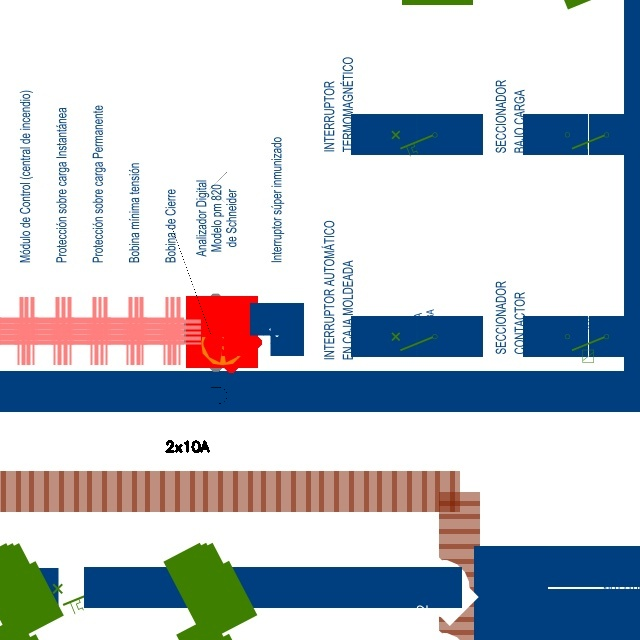interruptor_termomagnetico: (165, 149, 234, 431)
